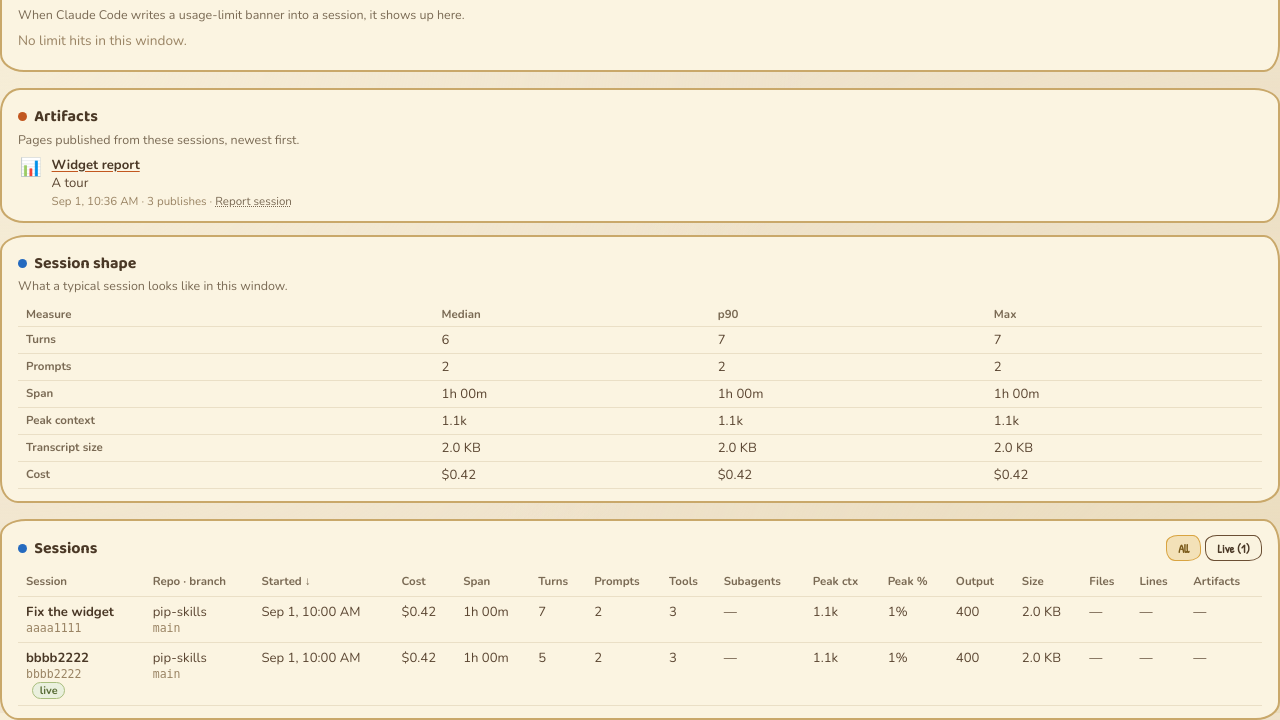
<ChroniclePage/> › omits the delegation panel for a session that spawned nothing
(page scrolled)
What coordinates should you click on to do the following:
click the button "Fix the widget"
I would click on:
 (70, 612)
Its box is [26, 603, 114, 621].
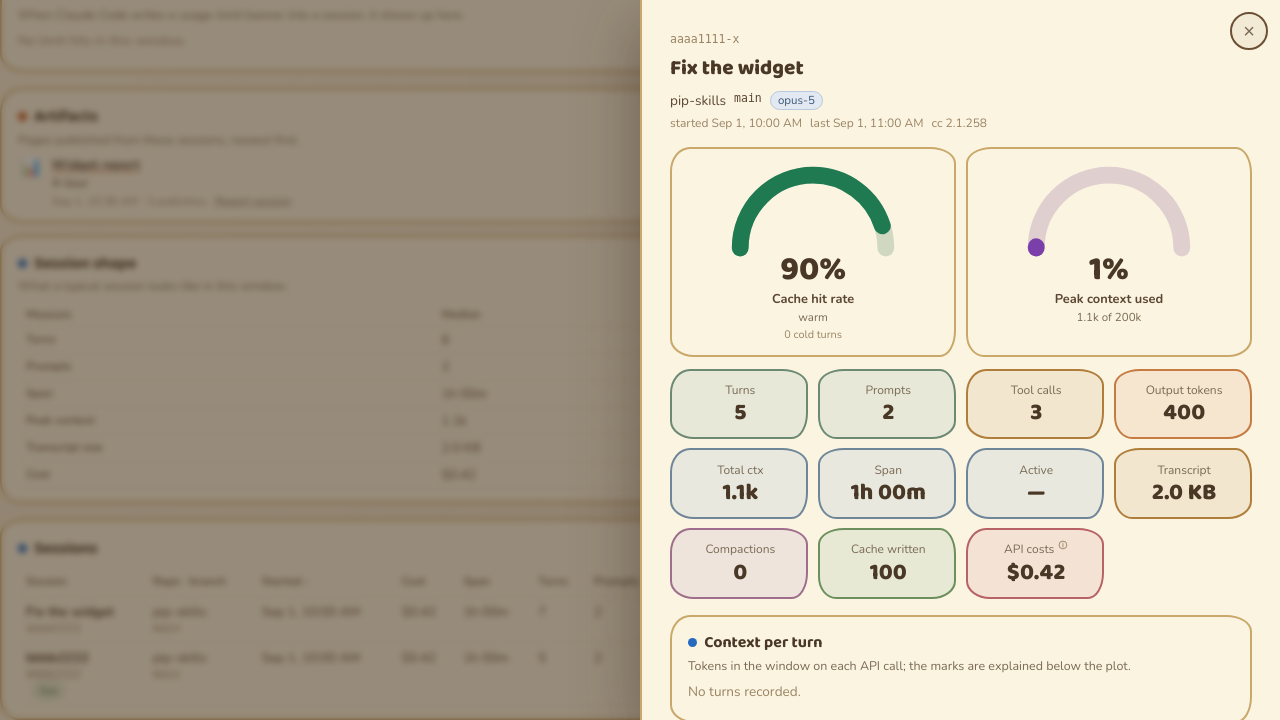
Check: the dialog is shown, box [640, 0, 1279, 719]
